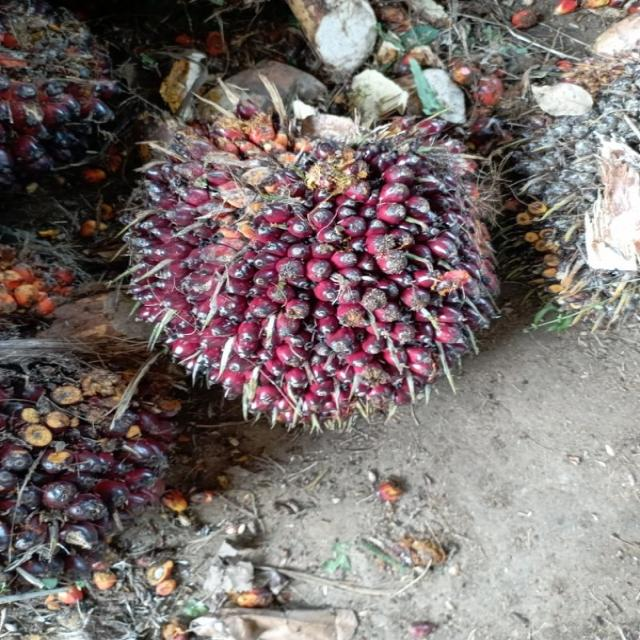fraksi 1: (120, 81, 508, 427)
